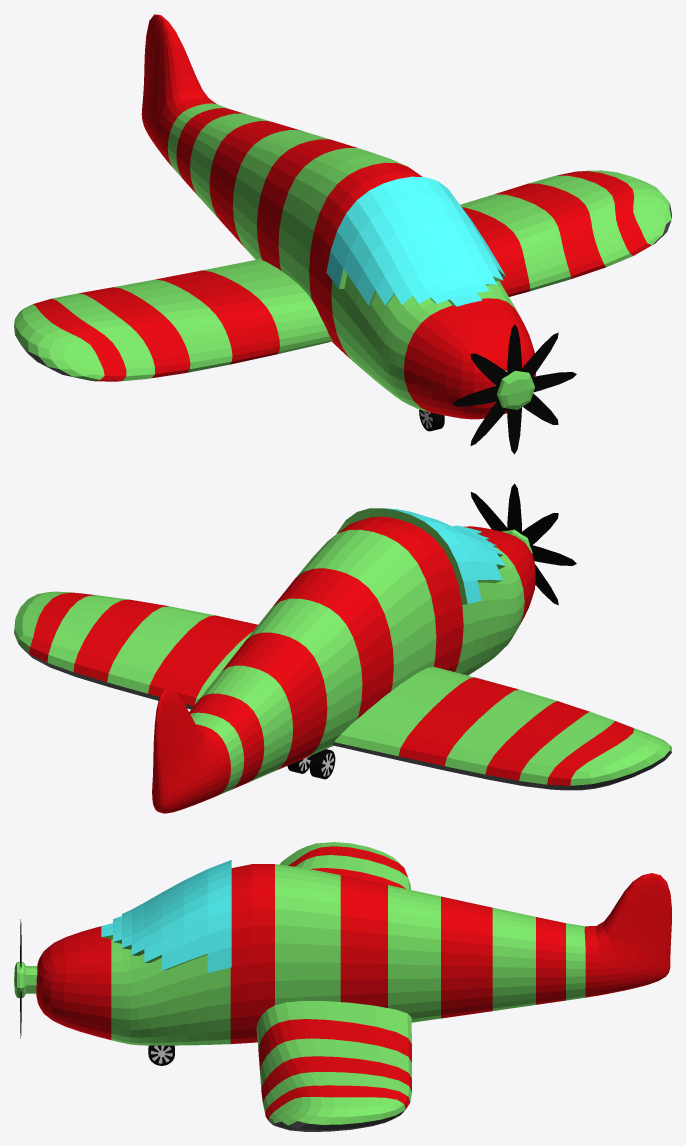
3 views of the same model, one above another, from view 1: azimuth 30°, elevation 25°; view 2: azimuth 150°, elevation 25°; view 3: azimuth 270°, elevation 25° (orthographic). The views are drawn at different scales.
Parts seen in each view (by area): view 1: body, body.001, motor; view 2: body, body.001, motor, Cylinder.003; view 3: body, body.001, motor, Cylinder.003.
Boxes of the visible parts, x1,y1,x2,y2 form: body: [14, 14, 671, 419]; body.001: [326, 176, 505, 306]; motor: [452, 324, 576, 454]; body: [14, 508, 671, 813]; body.001: [385, 508, 505, 603]; motor: [470, 483, 576, 605]; Cylinder.003: [287, 749, 335, 779]; body: [36, 842, 671, 1131]; body.001: [101, 860, 231, 972]; motor: [14, 919, 37, 1038]; Cylinder.003: [148, 1045, 174, 1065].
Size of the model in its own units: 7.37 by 2.44 by 7.38.
